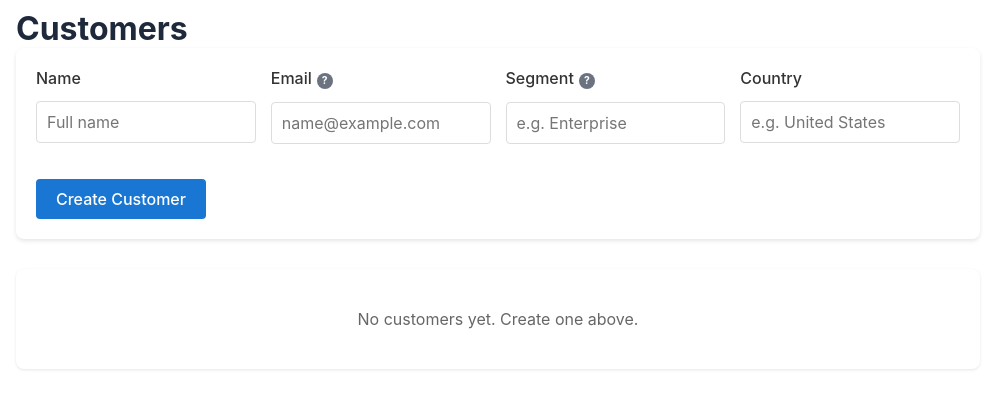
Test case: Customers Component › validates email format and shows error for invalid email
Type "Test User" into the field labelled "Name".
click(146, 122); type("Test User")  # box [36, 101, 256, 143]
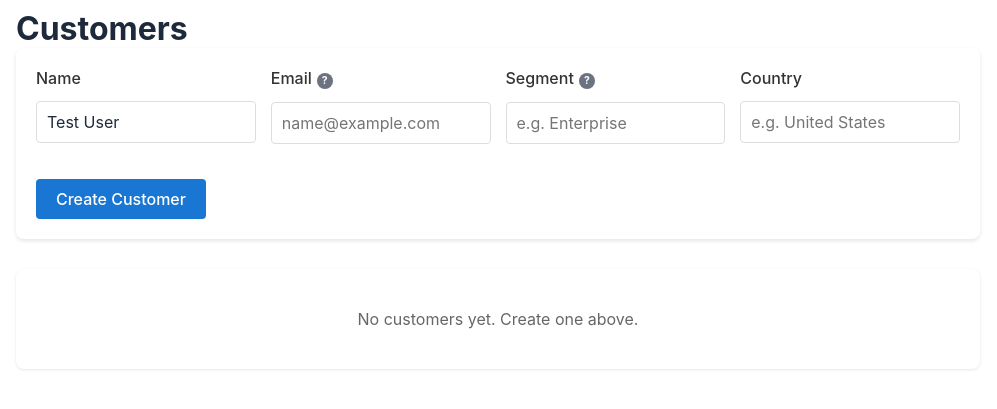
Type "notanemail" into the field labelled "Email ?".
click(381, 122); type("notanemail")  # box [271, 102, 491, 144]
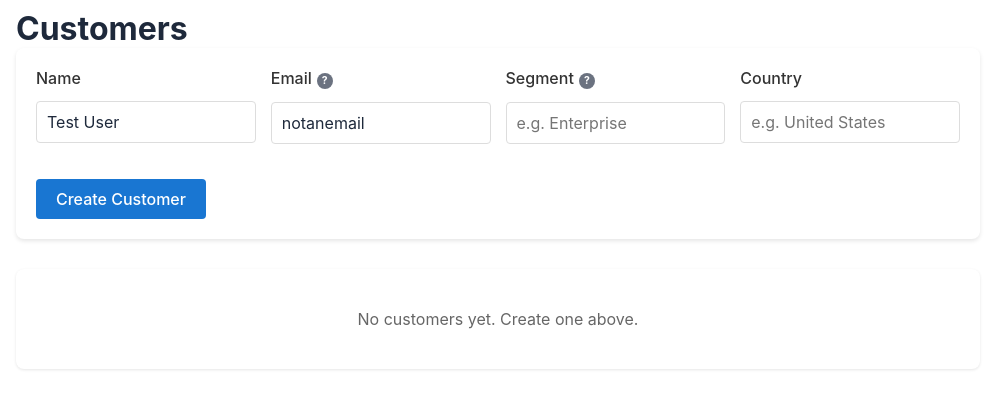
Type "Premium" into the field labelled "Segment ?".
click(615, 122); type("Premium")  # box [506, 102, 725, 144]
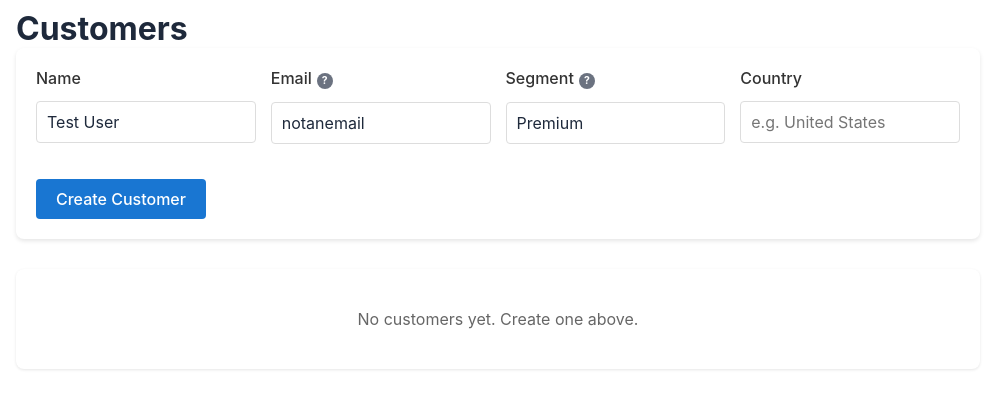
Type "USA" into the field labelled "Country".
click(850, 122); type("USA")  # box [740, 101, 960, 143]
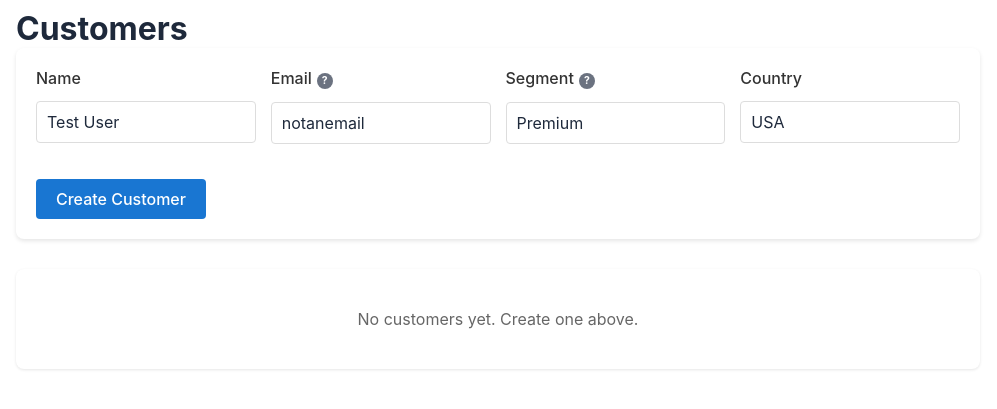
Submit the form, box [16, 48, 980, 238]
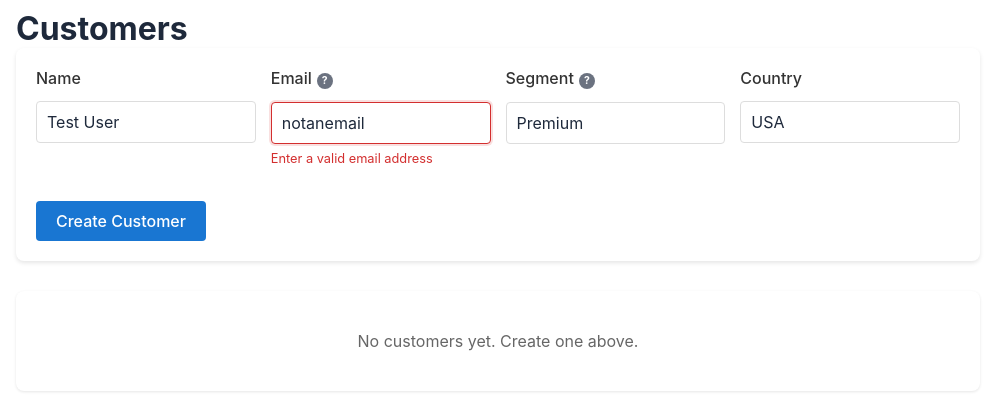
Expected: the text "Enter a valid email address" is shown, [271, 150, 433, 166]
